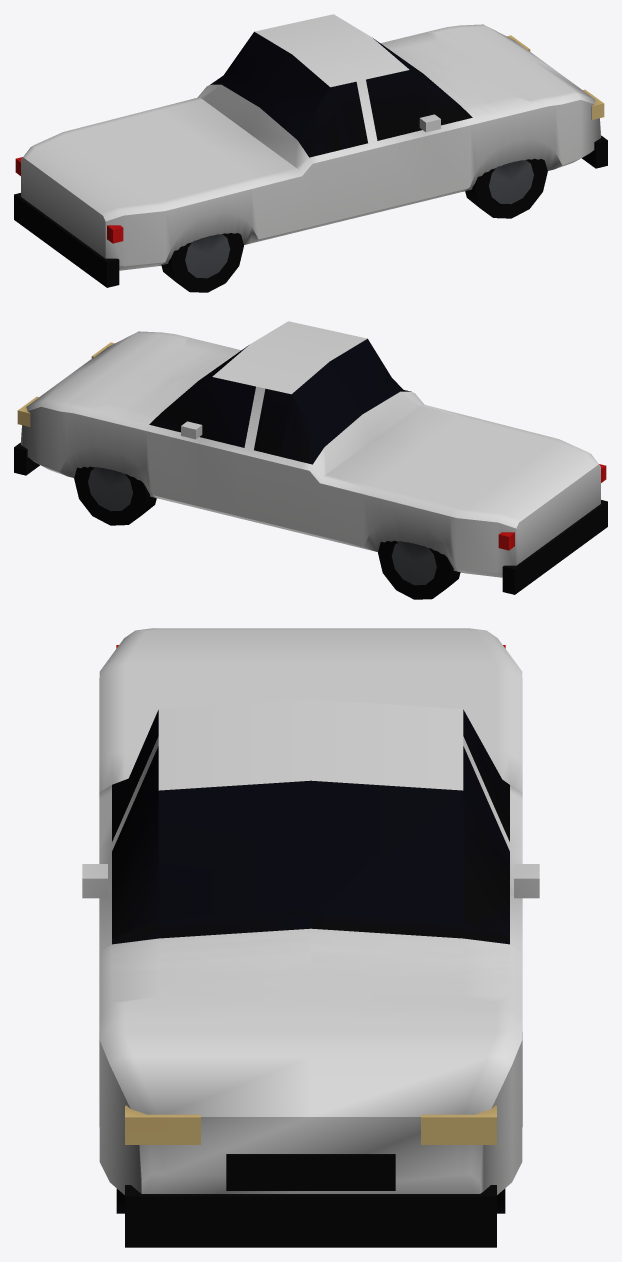
Rendered from pickup.glb.
The picture shows the model from 3 angles, top to bottom: view 1: azimuth 30°, elevation 25°; view 2: azimuth 150°, elevation 25°; view 3: azimuth 270°, elevation 25°; orthographic projection. The views are drawn at different scales.
Visible parts, largest first — view 1: paint, detail; view 2: paint, detail; view 3: paint, detail.
Boxes of the visible parts, x1=… form: paint: x1=21, y1=14, x2=600, y2=270; detail: x1=14, y1=31, x2=607, y2=292; paint: x1=21, y1=321, x2=600, y2=577; detail: x1=14, y1=338, x2=607, y2=599; paint: x1=82, y1=628, x2=539, y2=1194; detail: x1=112, y1=645, x2=509, y2=1247.
Size of the model in its own units: 1.77 by 0.5742 by 0.6995.
